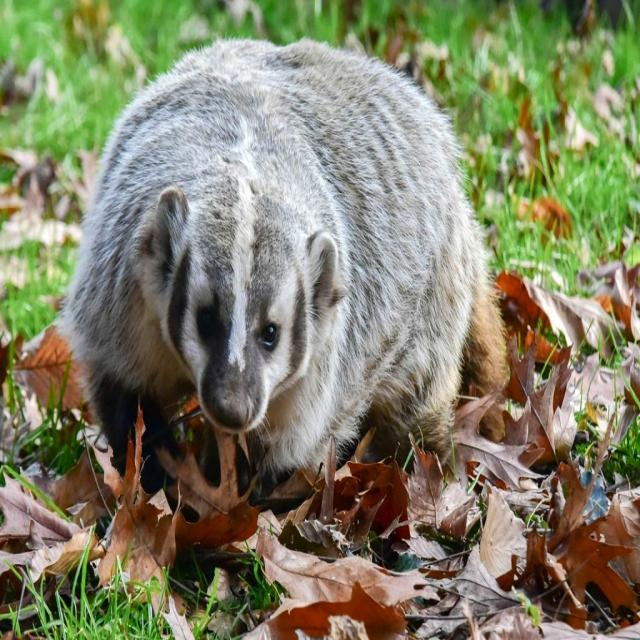badger: (56, 38, 504, 498)
